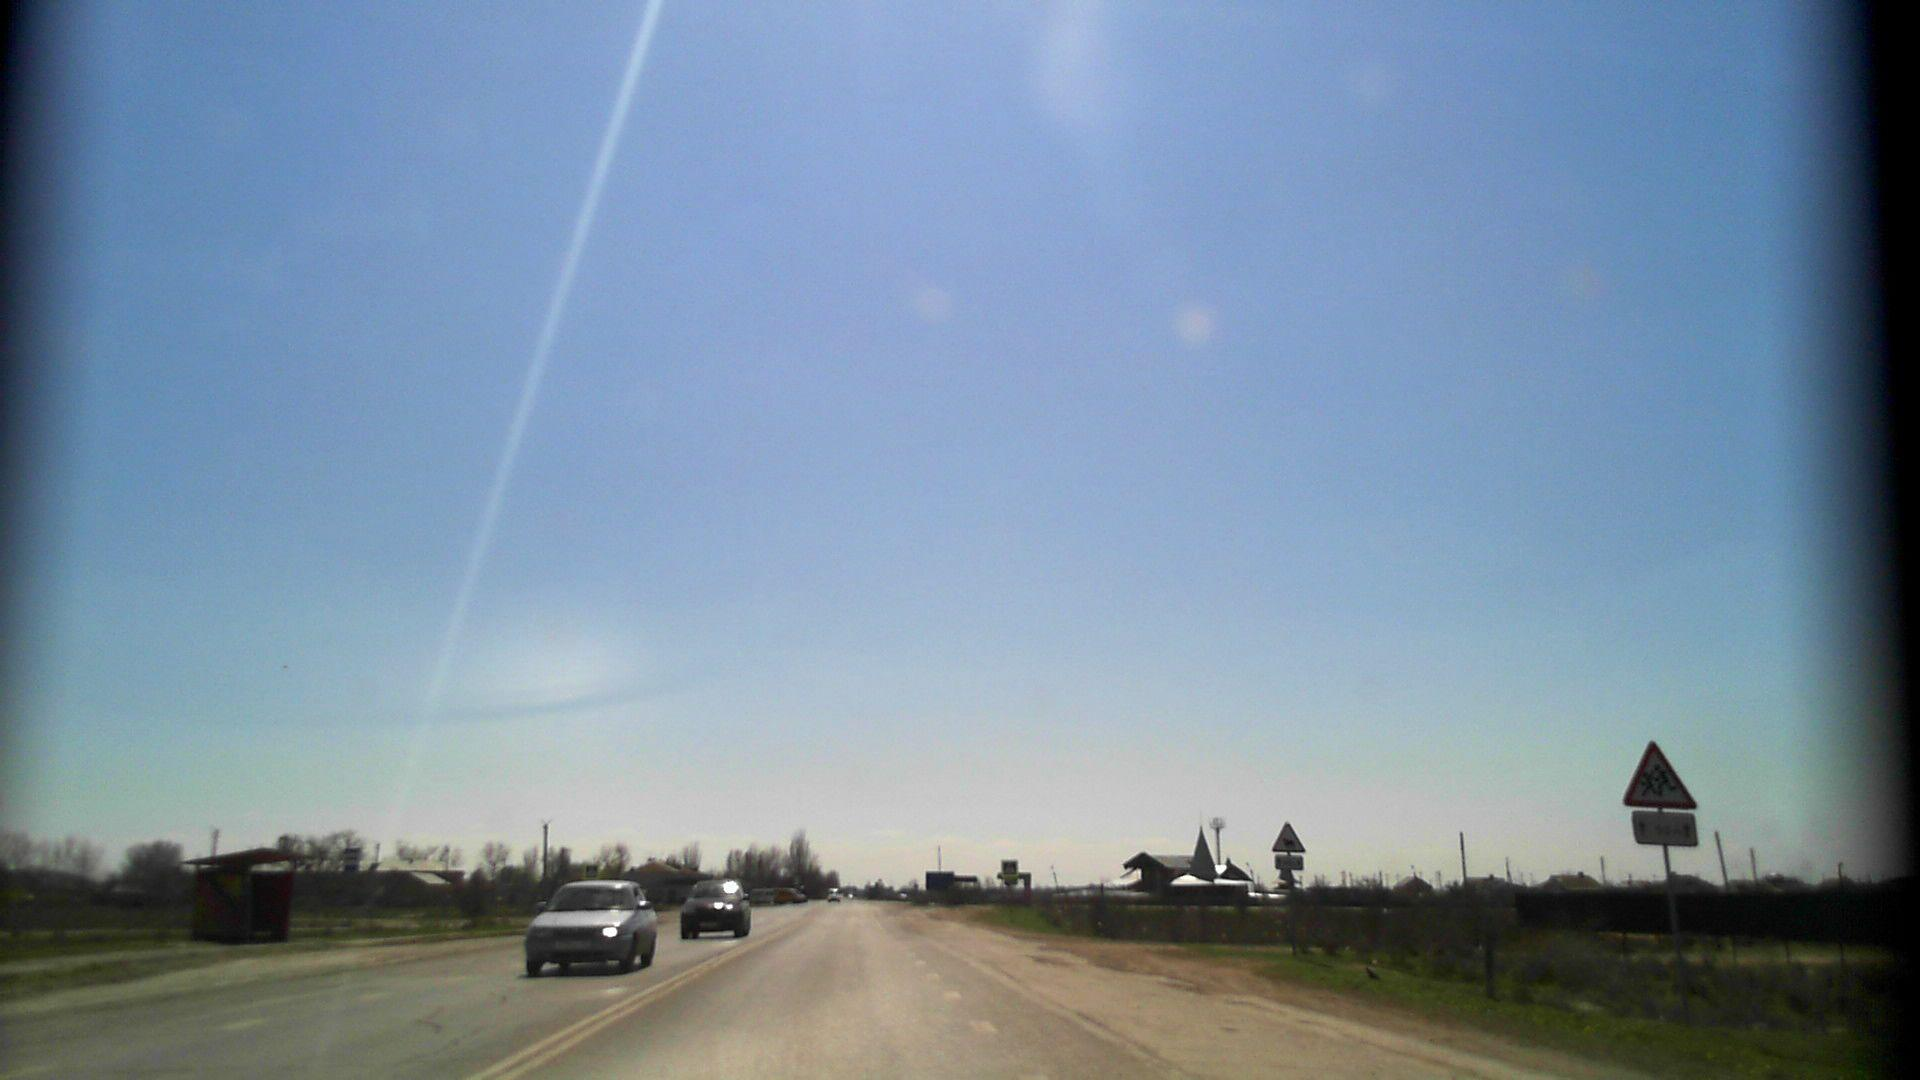1_23: (1620, 738, 1702, 807)
1_26: (1271, 814, 1305, 853)
5_16: (343, 845, 362, 871)
5_19_1: (1002, 861, 1018, 875)
5_19_2: (585, 866, 599, 879)
8_2_1: (1632, 809, 1699, 847), (1274, 855, 1305, 870)
